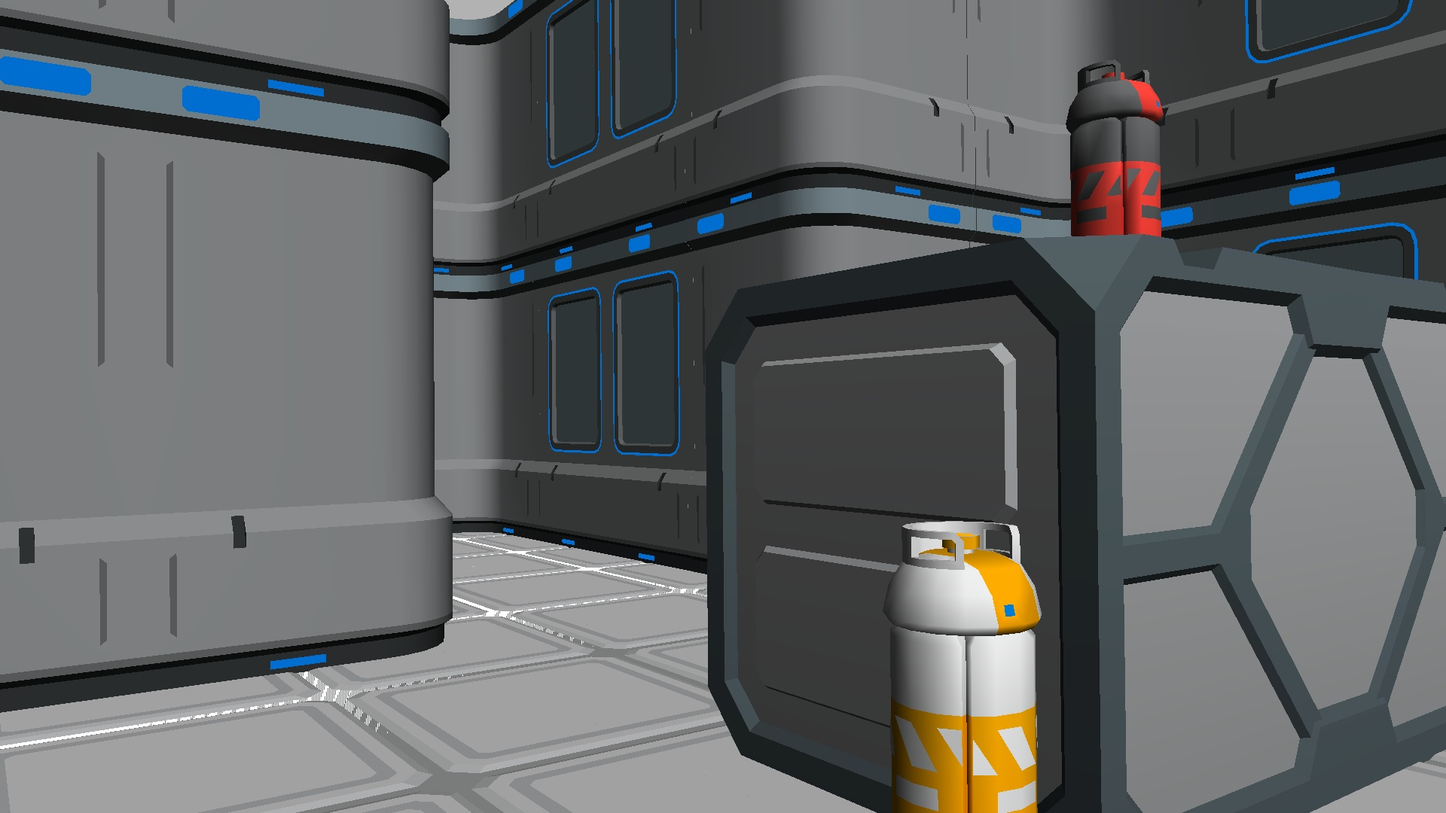red barrel: (1065, 59, 1163, 237)
yellow barrel: (882, 522, 1042, 813)
